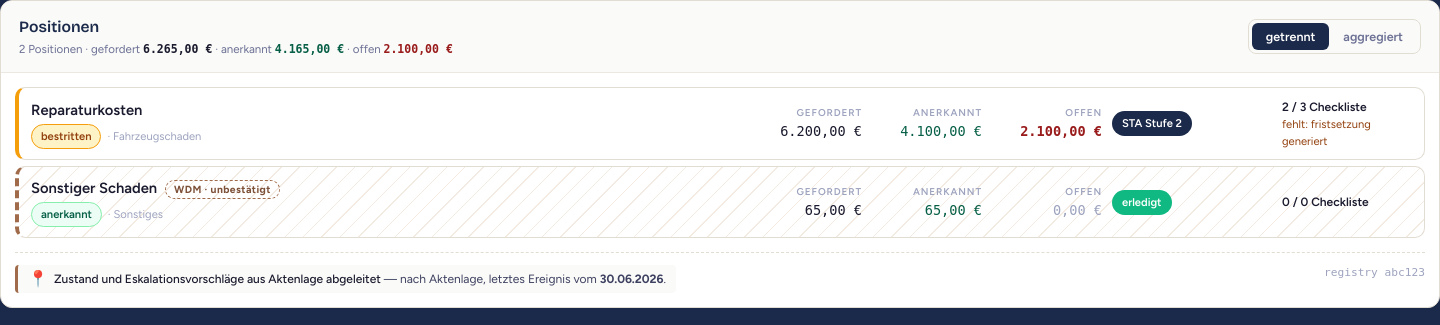
PositionsDashboard › Toggle wechselt zwischen getrennt und aggregiert
The width and height of the screenshot is (1440, 325).
Expected: the element with test id "positionszeile-reparaturkosten" is shown, [15, 87, 1425, 160]
Click the button with test id "toggle-aggregiert" at (1373, 36), box [1329, 23, 1417, 50]
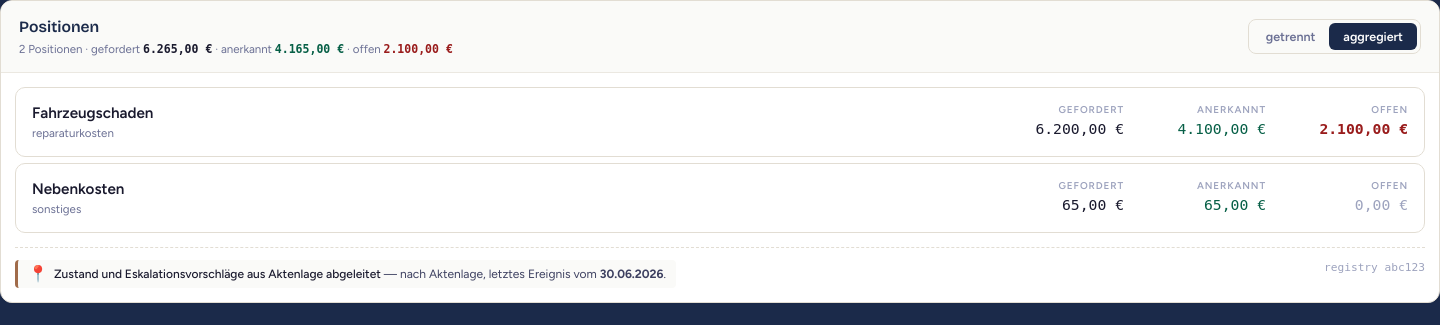
Expected: the element with test id "aggregationszeile-fahrzeugschaden" is shown, [15, 87, 1425, 157]
Expected: the element with test id "aggregationszeile-nebenkosten" is shown, [15, 163, 1425, 233]
